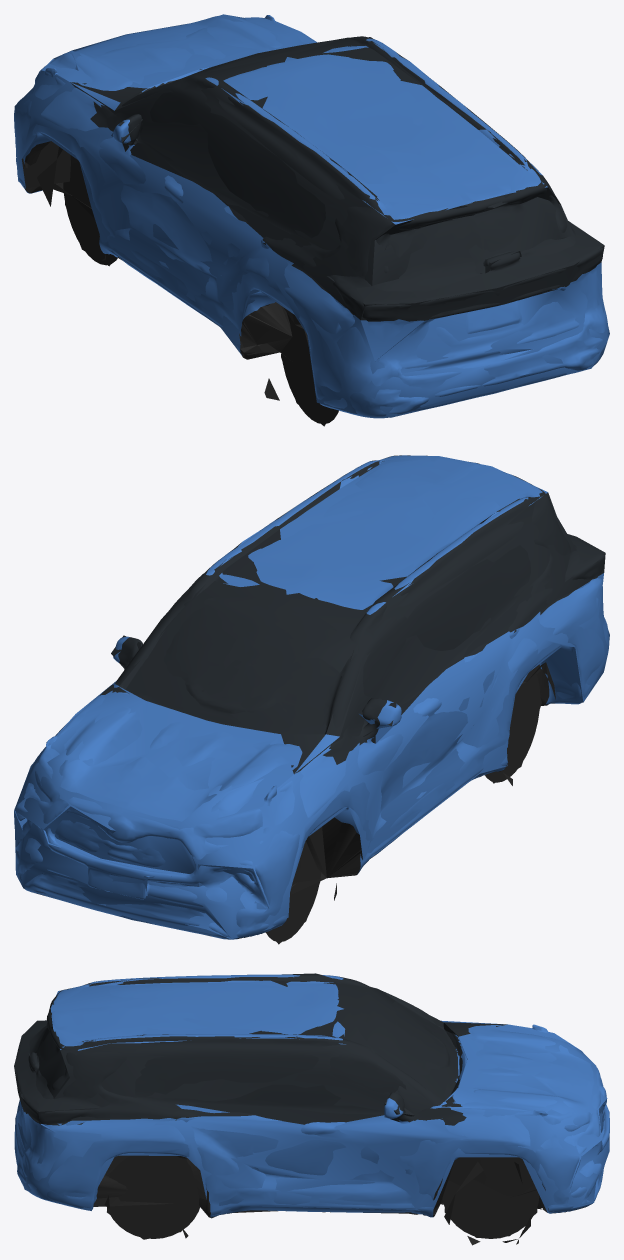
File: toyota-highlander.glb
The picture shows the model from 3 angles, top to bottom: view 1: azimuth 30°, elevation 25°; view 2: azimuth 150°, elevation 25°; view 3: azimuth 270°, elevation 25°; orthographic projection. The views are drawn at different scales.
Visible parts, largest first — view 1: body, far; view 2: body, far; view 3: body, far.
Part boxes in pixels (x1,y1,x2,y2): body: [14, 15, 608, 423]; far: [14, 14, 609, 426]; body: [14, 455, 609, 942]; far: [14, 456, 609, 944]; body: [14, 974, 609, 1245]; far: [14, 973, 609, 1239].
Bounding box in the file's own units: 2.16 × 1.86 × 5.08.
